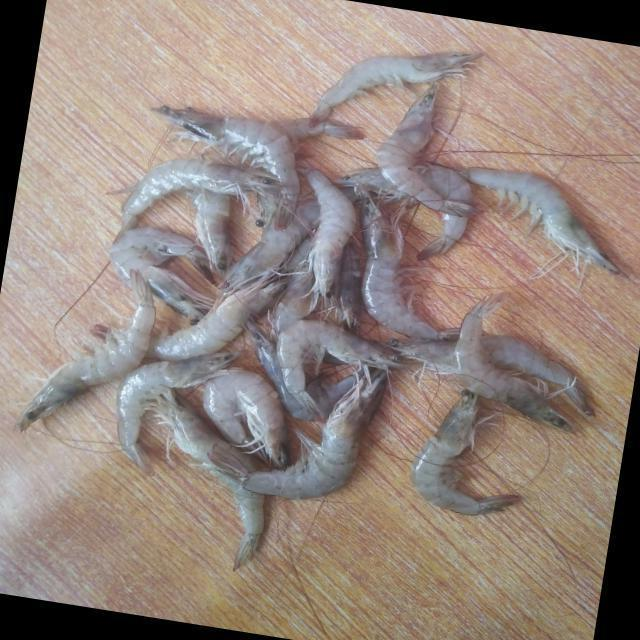shrimp: (207, 371, 388, 500), (14, 270, 154, 431), (146, 390, 264, 571), (149, 104, 301, 231), (380, 335, 594, 415), (460, 167, 620, 273), (455, 293, 574, 431), (115, 353, 238, 473), (112, 158, 280, 244), (376, 84, 480, 217), (411, 390, 520, 516), (330, 166, 472, 261), (309, 52, 482, 126), (357, 186, 439, 339), (276, 320, 405, 415), (145, 279, 285, 361), (245, 320, 356, 422), (215, 198, 320, 302), (108, 227, 212, 320), (295, 162, 356, 308), (203, 369, 289, 469), (186, 189, 232, 284)
